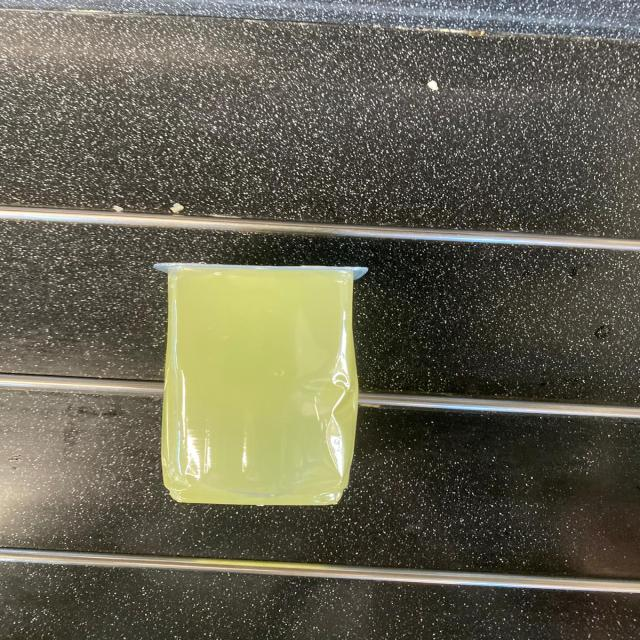yan_yemek: (154, 262, 365, 506)
